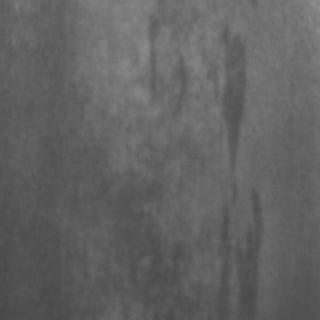inclusion: (199, 15, 245, 194), (210, 179, 266, 315), (136, 11, 188, 123)
